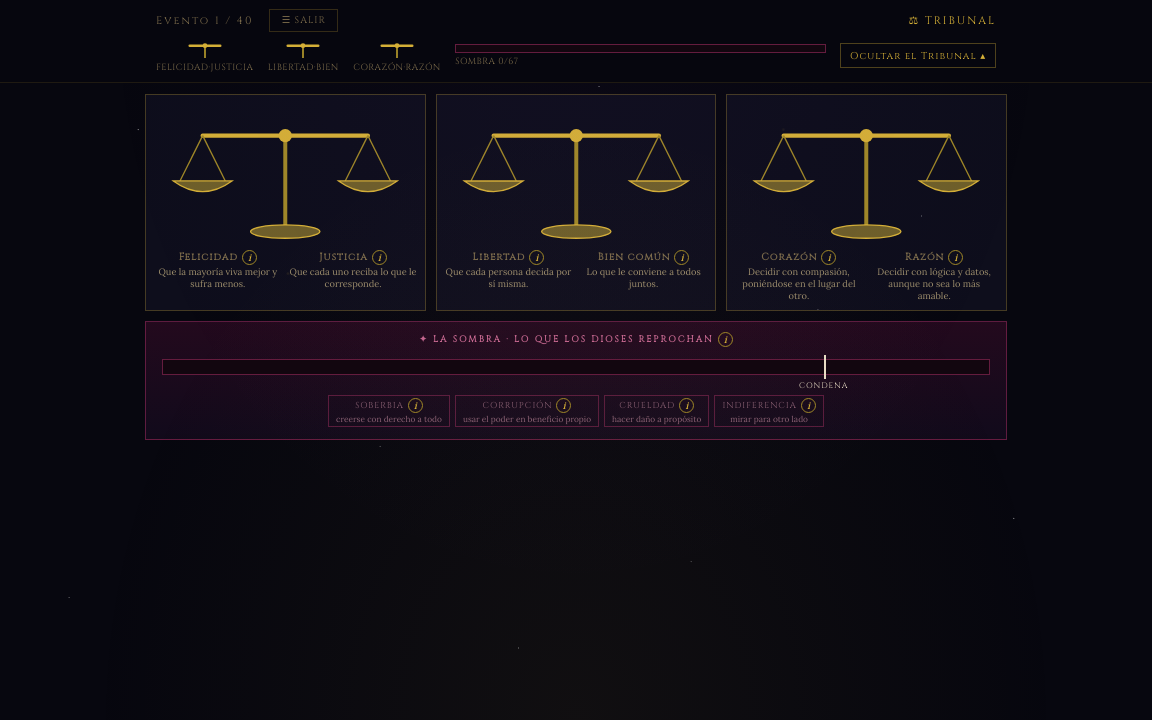
Test: HudTribunal › la «i» explica el concepto con definicion y ejemplo, y se cierra con Escape
Click the button named "Qué es Justicia". click: [379, 258]
box: top-left (372, 250), bottom-right (387, 265)
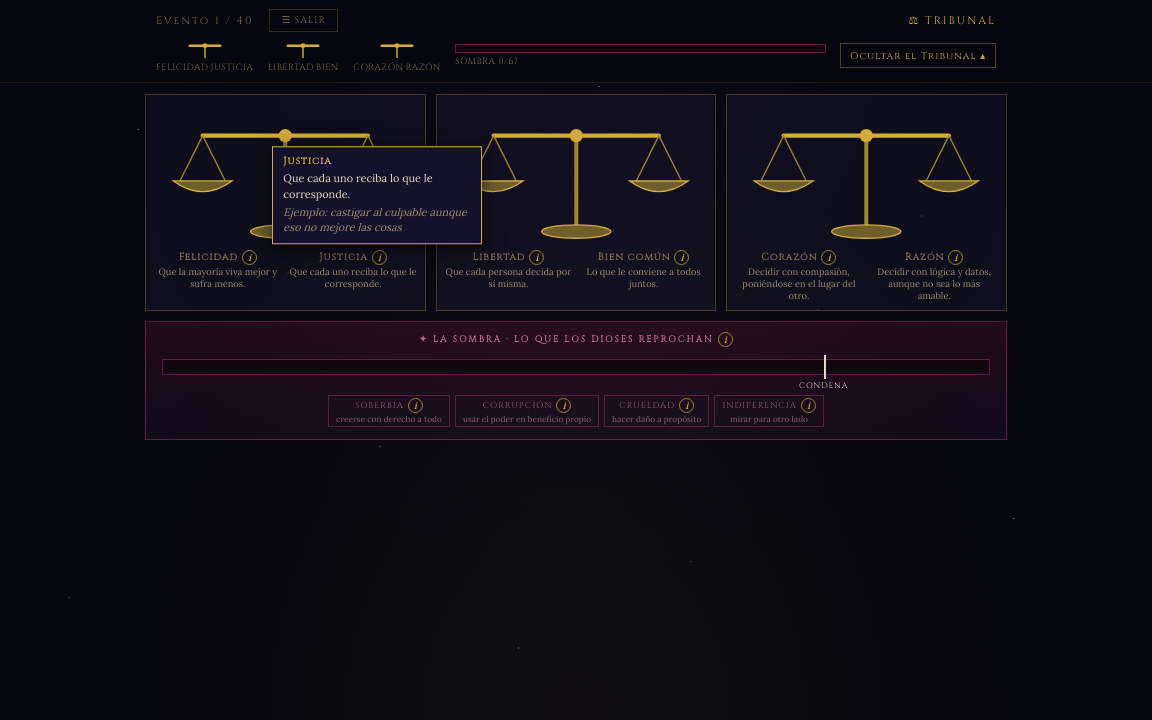
Now the tooltip shows "Que cada uno reciba lo que le corresponde", box top-left (283, 172), bottom-right (432, 201)
Now the tooltip shows "Ejemplo:", box top-left (283, 205), bottom-right (330, 219)
Press Escape
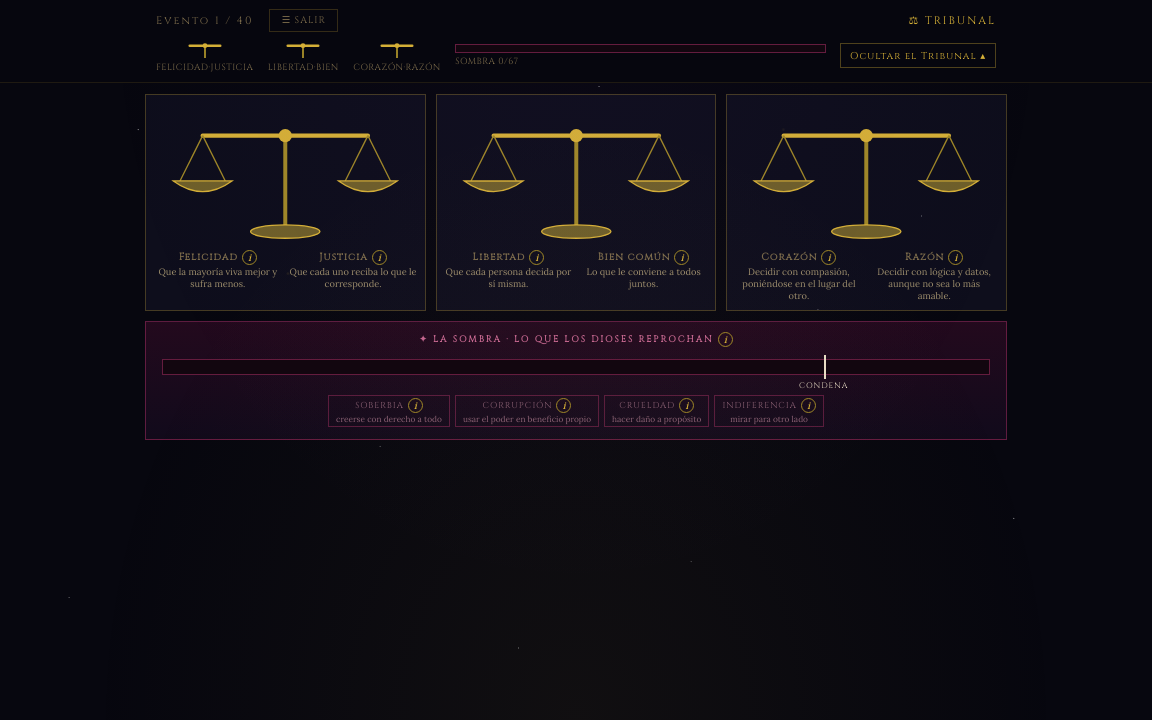
Now the tooltip is gone
